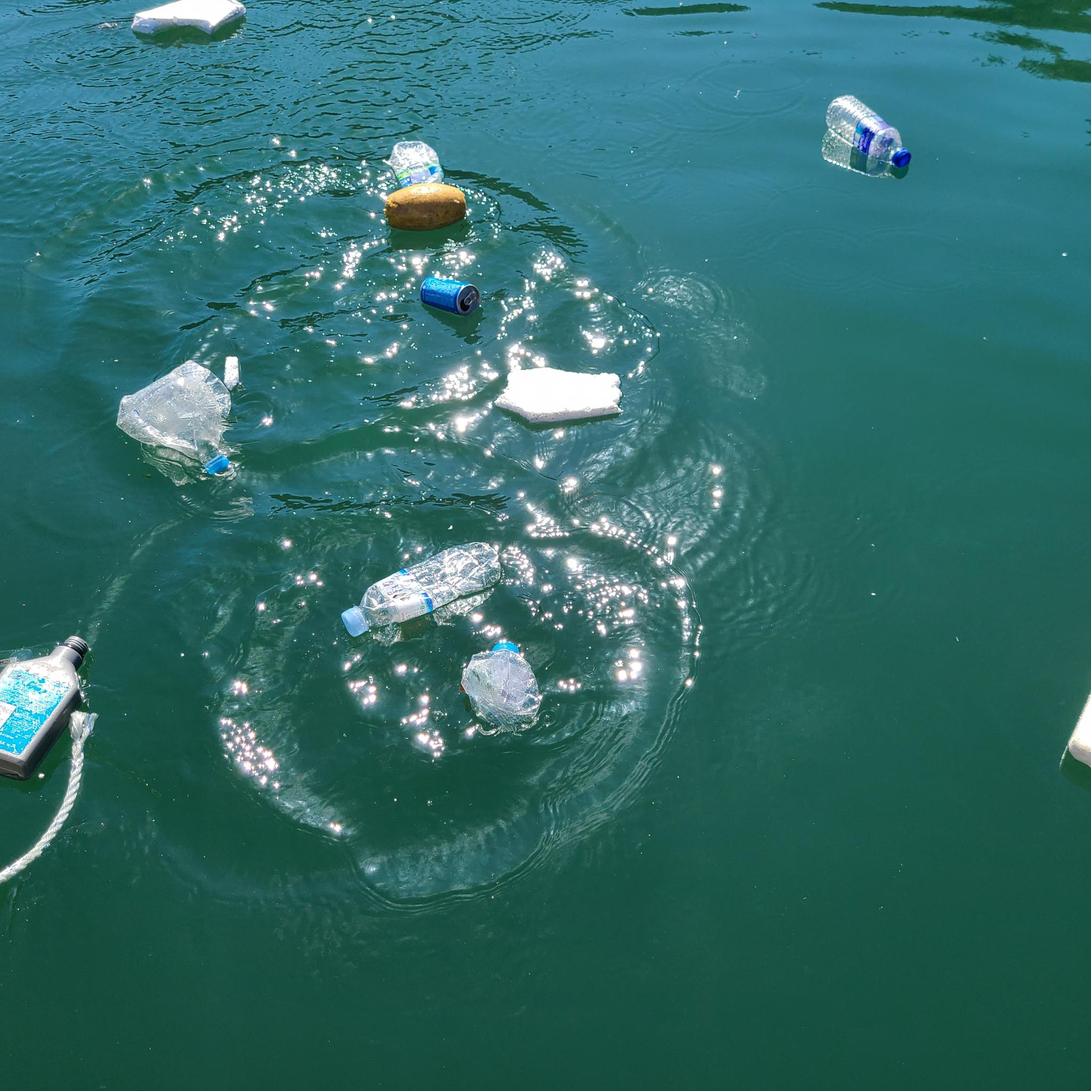sampah_terapung: (1, 711, 97, 884), (342, 542, 502, 638), (117, 361, 231, 475), (1, 637, 89, 781), (495, 367, 624, 424), (461, 642, 541, 726), (826, 95, 912, 168), (386, 183, 467, 232), (132, 1, 247, 35), (392, 141, 445, 189), (420, 276, 481, 316), (1069, 691, 1091, 768), (225, 357, 240, 392)
